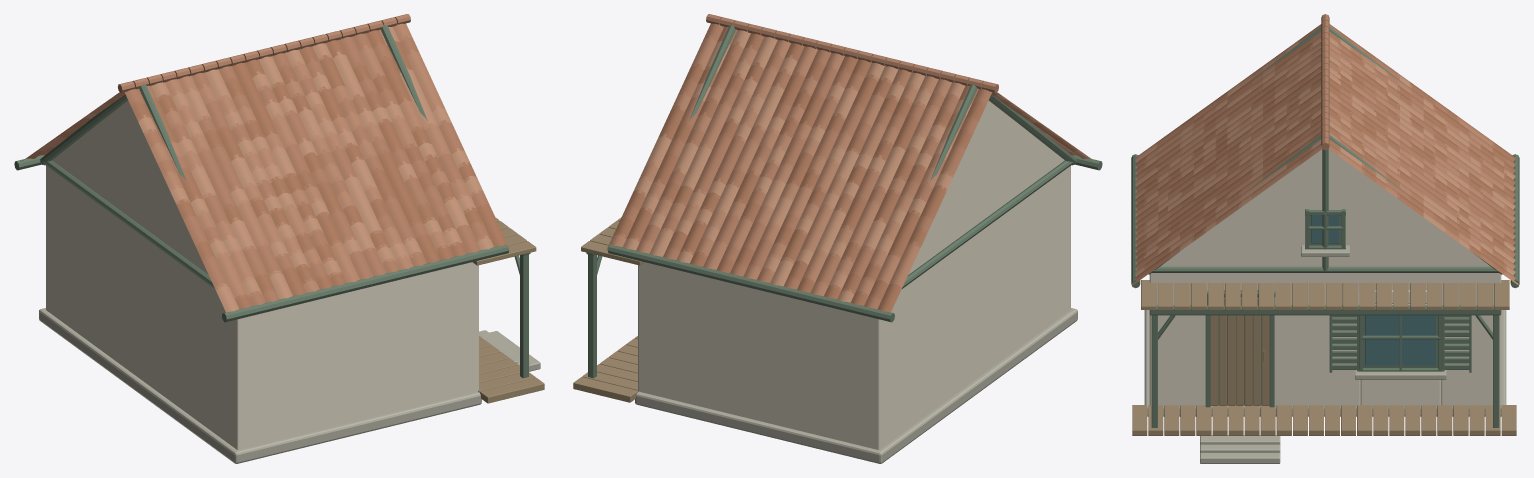
The model's file is garden-house.glb.
3 views of the same model, side by side, from view 1: azimuth 30°, elevation 25°; view 2: azimuth 150°, elevation 25°; view 3: azimuth 270°, elevation 25° (orthographic). The views are drawn at different scales.
Parts seen in each view (by area): view 1: house_Warm_lime_plaster, house_Clay_tile_variation_0, house_Clay_tile_variation_2, house_Clay_tile_variation_1, house_Clay_tile_variation_3, house_Weathered_dark_moss_timber, house_Limestone_plinth, house_Porch_timber; view 2: house_Warm_lime_plaster, house_Clay_tile_variation_1, house_Clay_tile_variation_0, house_Clay_tile_variation_3, house_Clay_tile_variation_2, house_Weathered_dark_moss_timber, house_Limestone_plinth, house_Porch_timber; view 3: house_Warm_lime_plaster, house_Porch_timber, house_Weathered_dark_moss_timber, house_Clay_tile_variation_1, house_Clay_tile_variation_0, house_Clay_tile_variation_3, house_Clay_tile_variation_2, house_Limestone_plinth, house_Quiet_blue_green_window_glass.
Part boxes in pixels (<box>): house_Warm_lime_plaster: <box>46,100,478,449</box>; house_Clay_tile_variation_0: <box>21,30,510,309</box>; house_Clay_tile_variation_2: <box>39,33,490,305</box>; house_Clay_tile_variation_1: <box>34,14,470,300</box>; house_Clay_tile_variation_3: <box>78,27,493,312</box>; house_Weathered_dark_moss_timber: <box>14,24,530,378</box>; house_Limestone_plinth: <box>39,308,540,463</box>; house_Porch_timber: <box>472,217,544,403</box>; house_Warm_lime_plaster: <box>638,100,1070,449</box>; house_Clay_tile_variation_1: <box>606,14,1071,297</box>; house_Clay_tile_variation_0: <box>613,27,1077,312</box>; house_Clay_tile_variation_3: <box>623,30,1095,302</box>; house_Clay_tile_variation_2: <box>621,23,1082,309</box>; house_Weathered_dark_moss_timber: <box>586,24,1102,378</box>; house_Limestone_plinth: <box>635,308,1077,463</box>; house_Porch_timber: <box>573,217,644,402</box>; house_Warm_lime_plaster: <box>1149,149,1501,407</box>; house_Porch_timber: <box>1132,280,1516,435</box>; house_Weathered_dark_moss_timber: <box>1131,27,1519,427</box>; house_Clay_tile_variation_1: <box>1135,14,1518,285</box>; house_Clay_tile_variation_0: <box>1132,30,1515,285</box>; house_Clay_tile_variation_3: <box>1135,36,1515,275</box>; house_Clay_tile_variation_2: <box>1135,24,1515,270</box>; house_Limestone_plinth: <box>1144,245,1506,463</box>; house_Quiet_blue_green_window_glass: <box>1311,215,1436,365</box>.
Bounding box in the file's own units: 7.41 × 6.44 × 7.74.
